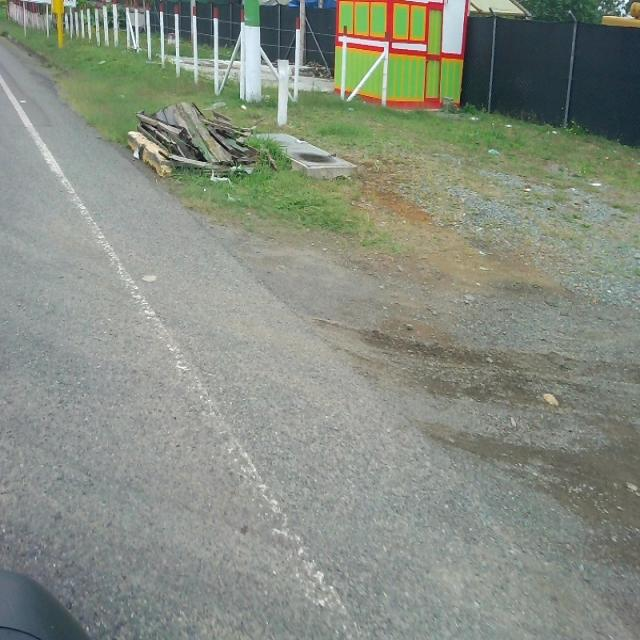DITCH: (1, 31, 638, 638), (1, 32, 638, 638)
